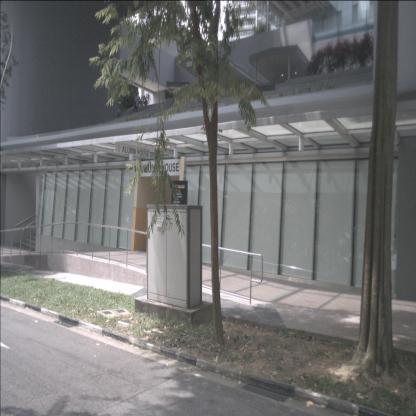human-pedestrian-adult: (133, 92, 139, 119)
